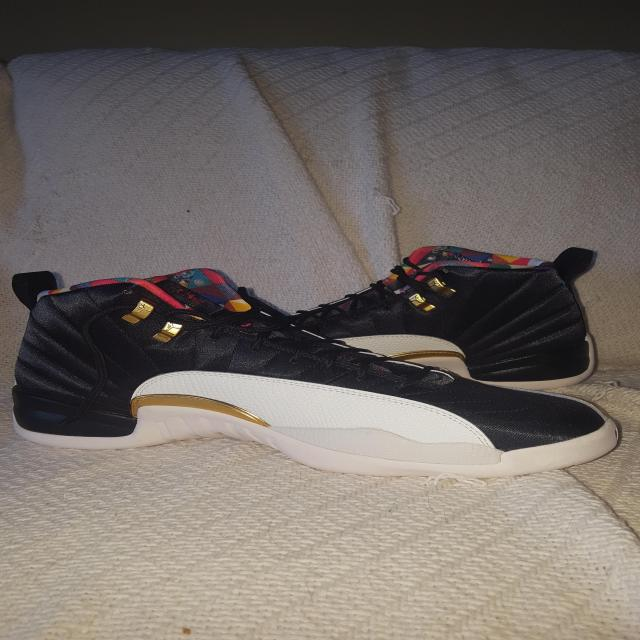shoe: (0, 258, 637, 498), (232, 228, 620, 407)
